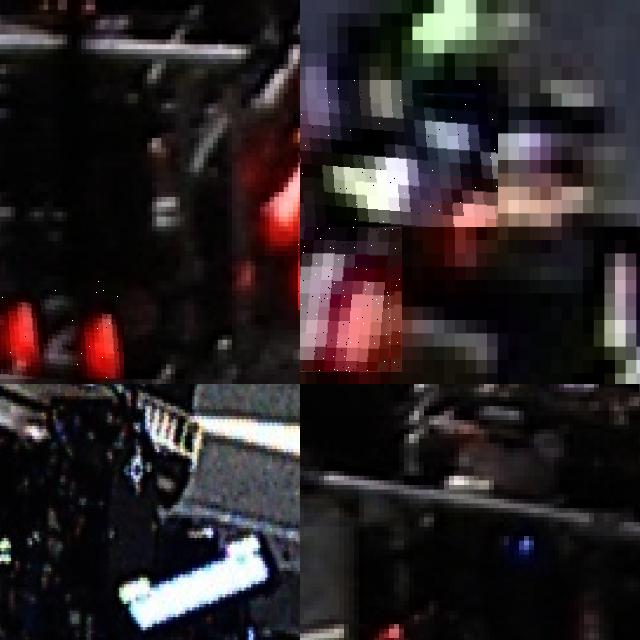R2: (0, 280, 123, 379)
R4: (300, 80, 497, 226), (300, 213, 401, 373)
